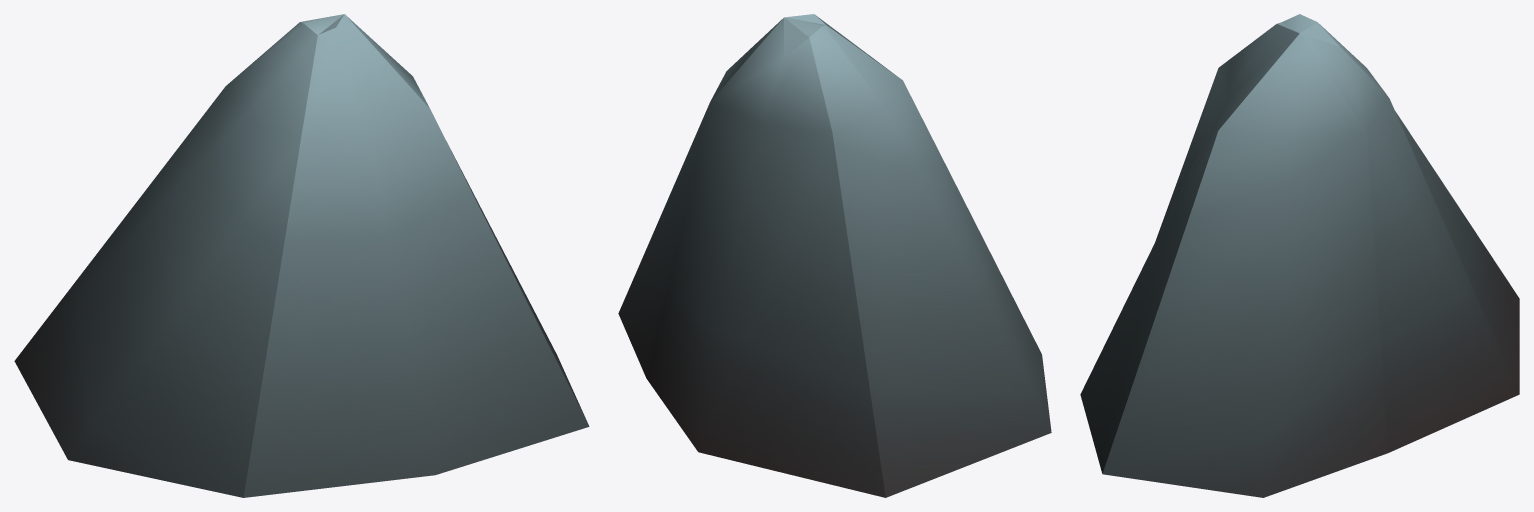
The model's file is SM_Env_Mountain_03.fbx.
3 views of the same model, side by side, from view 1: azimuth 30°, elevation 25°; view 2: azimuth 150°, elevation 25°; view 3: azimuth 270°, elevation 25° (orthographic). The views are drawn at different scales.
Visible parts, largest first — view 1: SM_Env_Mountain_03; view 2: SM_Env_Mountain_03; view 3: SM_Env_Mountain_03.
Part boxes in pixels (box(x1,y1,x2,y2)): SM_Env_Mountain_03: box(14, 14, 589, 497); SM_Env_Mountain_03: box(618, 14, 1051, 497); SM_Env_Mountain_03: box(1080, 14, 1519, 497).
Size of the model in its own units: 3493 by 2639 by 2833.
